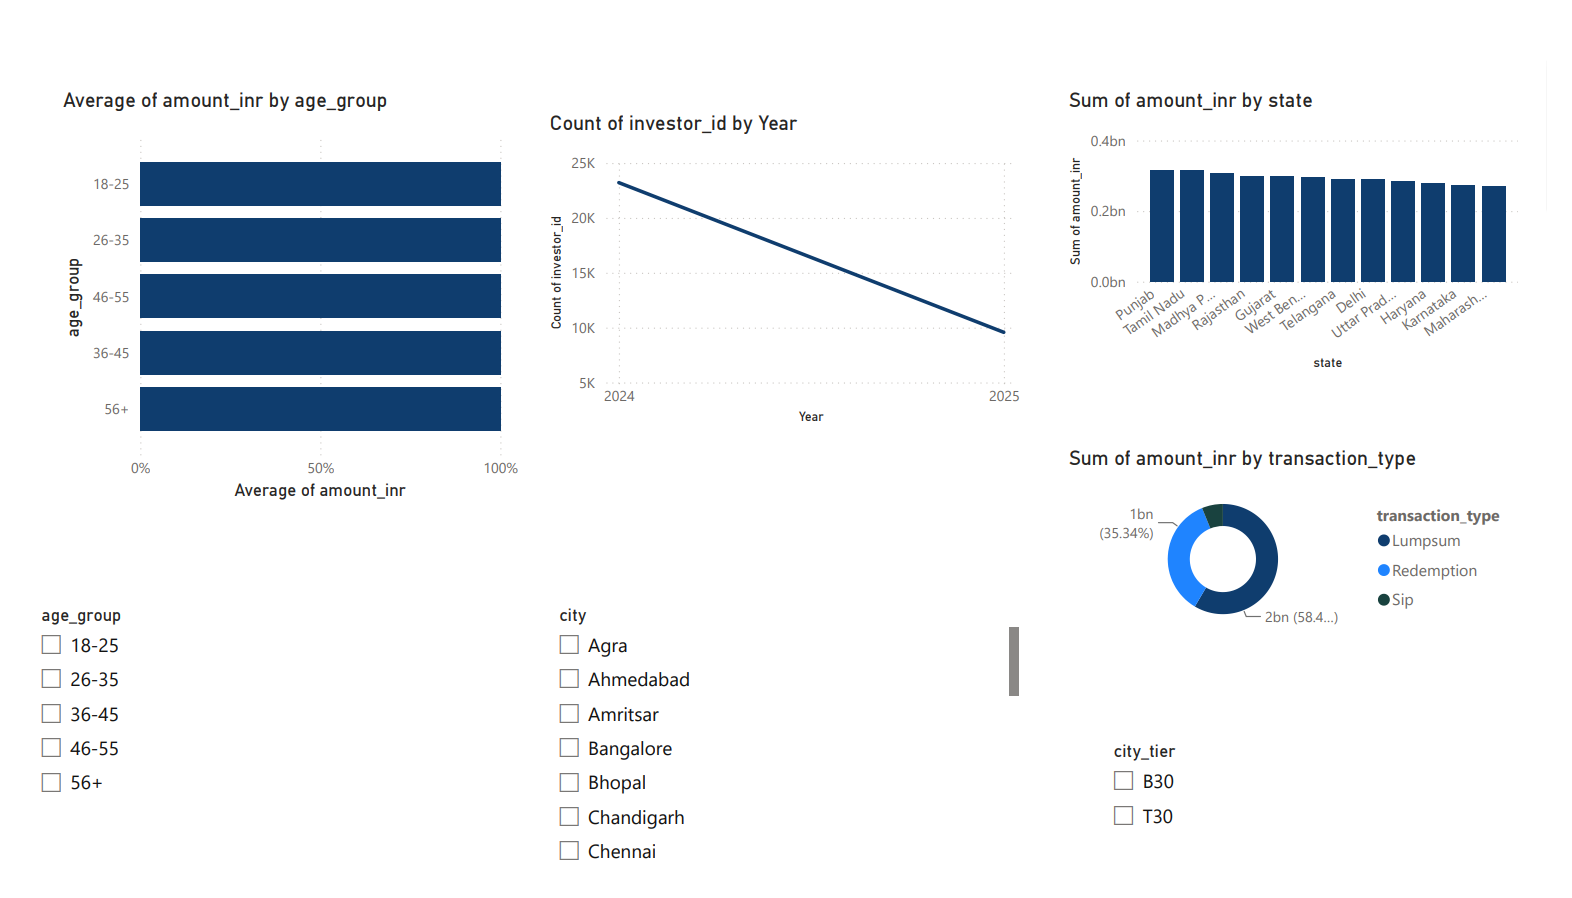

Layout of this report page (visuals, bound fields, positions):
{"tool":"powerbi","page":{"name":"Investor Analytics","canvas":[1280,720],"ordinal":2},"visuals":[{"type":"columnChart","fields":{"Category":["clean_transactions.state"],"Y":["Sum(clean_transactions.amount_inr)"]},"box":[872.7,57.6,388.3,242.9],"z":0},{"type":"donutChart","fields":{"Category":["clean_transactions.transaction_type"],"Y":["Sum(clean_transactions.amount_inr)"]},"box":[872.7,359.5,388.3,160.5],"z":1000},{"type":"lineChart","fields":{"Category":["clean_transactions.transaction_date.Variation.Date Hierarchy.Year","clean_transactions.transaction_date.Variation.Date Hierarchy.Quarter","clean_transactions.transaction_date.Variation.Date Hierarchy.Month","clean_transactions.transaction_date.Variation.Date Hierarchy.Day"],"Y":["CountNonNull(clean_transactions.investor_id)"]},"box":[436.4,76.8,404.8,269],"z":2000},{"type":"slicer","fields":{"Values":["clean_transactions.city_tier"]},"box":[902.9,603.8,245.6,115.3],"z":3000},{"type":"slicer","fields":{"Values":["clean_transactions.age_group"]},"box":[0,488.5,405,231],"z":4000},{"type":"slicer","fields":{"Values":["clean_transactions.city"]},"box":[436.4,488.5,405,231],"z":5000},{"type":"hundredPercentStackedBarChart","fields":{"Y":["Avg(clean_transactions.amount_inr)"],"Category":["clean_transactions.age_group"]},"box":[26.1,57.6,392.5,352.7],"z":6000}]}

Visuals, with their boxes in screenshot pixels (x1, y1, x2, y2), scaled from the page's 1280x720 canvas onto the 1572x898 screenshot:
columnChart - clean_transactions.state x Sum(clean_transactions.amount_inr): (x1=1072, y1=72, x2=1549, y2=375)
donutChart - clean_transactions.transaction_type x Sum(clean_transactions.amount_inr): (x1=1072, y1=448, x2=1549, y2=649)
lineChart - clean_transactions.transaction_date.Variation.Date Hierarchy.Year x clean_transactions.transaction_date.Variation.Date Hierarchy.Quarter: (x1=536, y1=96, x2=1033, y2=431)
slicer - clean_transactions.city_tier: (x1=1109, y1=753, x2=1411, y2=897)
slicer - clean_transactions.age_group: (x1=0, y1=609, x2=497, y2=897)
slicer - clean_transactions.city: (x1=536, y1=609, x2=1033, y2=897)
hundredPercentStackedBarChart - Avg(clean_transactions.amount_inr) x clean_transactions.age_group: (x1=32, y1=72, x2=514, y2=512)
